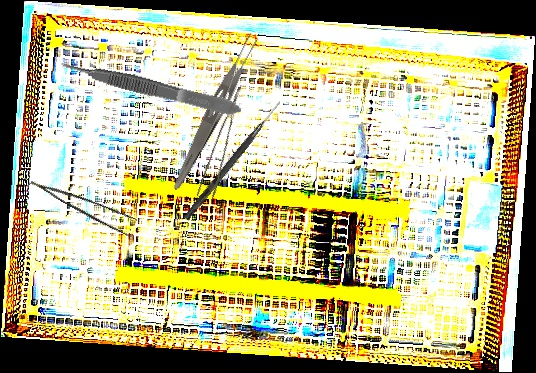Dressing Forceps: (169, 30, 263, 195)
Hook Surgical: (183, 98, 283, 222)
Tissue Forceps: (57, 54, 244, 120), (30, 164, 142, 242), (191, 86, 259, 203)
